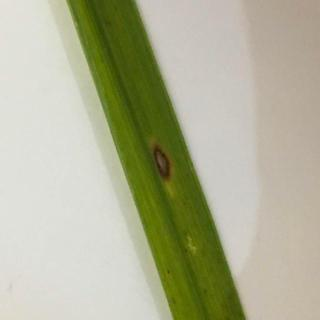Blast: (131, 102, 203, 219)
